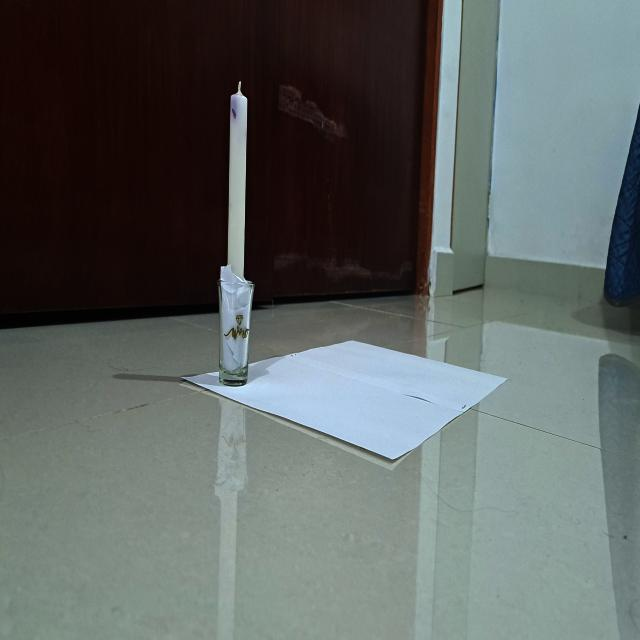candle: (216, 66, 258, 389)
